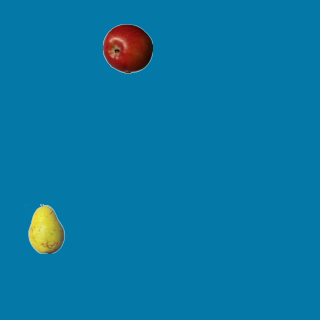Apple Braeburn: (102, 23, 152, 73)
Pear Monster: (21, 203, 71, 253)
